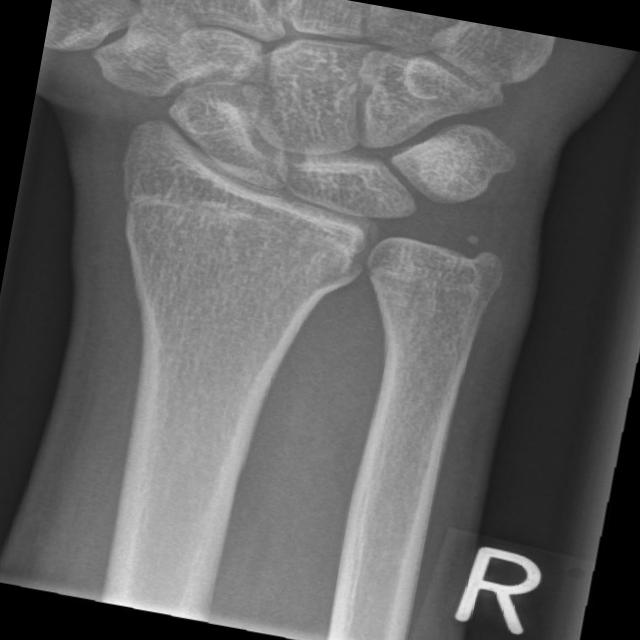fracture: (99, 166, 378, 283), (349, 234, 517, 318)
